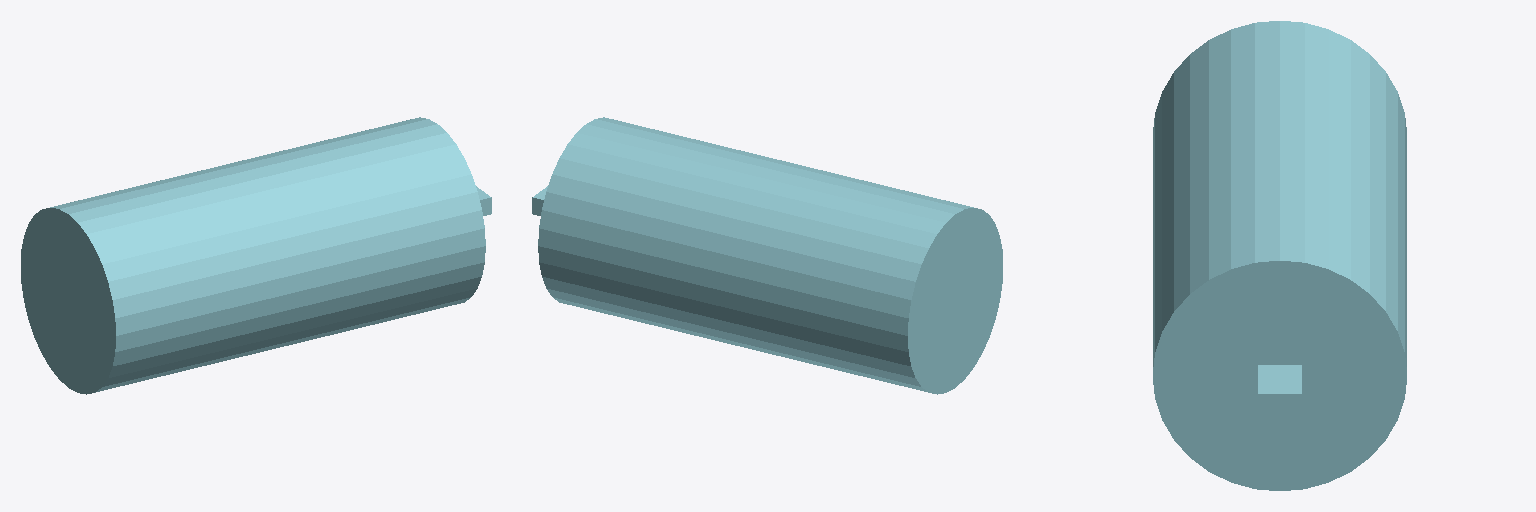
The robot description file, URDF, robot "cylinder_marker_v4010":
<?xml version="1.0"?>
<robot name="cylinder_marker_v4010">

  <link name="cylinder_marker_v4010">
    <!-- Handle -->
    <visual>
      <origin xyz="0 0 0" rpy="0 1.5707963267948966 0"/>
      <geometry>
        <cylinder length="0.12044438832357957" radius="0.027022227162891228"/>
      </geometry>
      <material name="material">
        <color rgba="0.639 0.847 0.882 1.0"/>
      </material>
    </visual>
    <collision>
      <origin xyz="0 0 0" rpy="0 1.5707963267948966 0"/>
      <geometry>
        <cylinder length="0.12044438832357957" radius="0.027022227162891228"/>
      </geometry>
    </collision>

    <!-- Head -->
    <visual>
      <origin xyz="0.06760772236806367 0 0" rpy="0 0 0"/>
      <geometry>
        <box size="0.014771056412547768 0.009247044214615365 0.005286159700766302"/>
      </geometry>
      <material name="material">
        <color rgba="0.639 0.847 0.882 1.0"/>
      </material>
    </visual>
    <collision>
      <origin xyz="0.06760772236806367 0 0" rpy="0 0 0"/>
      <geometry>
        <box size="0.014771056412547768 0.009247044214615365 0.005286159700766302"/>
      </geometry>
    </collision>

    <inertial>
      <density value="400.0"/>
    </inertial>
  </link>

</robot>

--- What the picture shows (computed from the rendered views, not written in the file) ---
The picture shows the robot from 3 angles, left to right: view 1: azimuth 30°, elevation 25°; view 2: azimuth 150°, elevation 25°; view 3: azimuth 270°, elevation 25°; orthographic projection.
Robot: cylinder_marker_v4010 — 1 links, 0 joints (none); root link cylinder_marker_v4010; default pose: all joints at 0.
Visible links, largest first — view 1: cylinder_marker_v4010; view 2: cylinder_marker_v4010; view 3: cylinder_marker_v4010.
Boxes of the visible links, x1,y1,x2,y2 form: cylinder_marker_v4010: (21,117,491,394); cylinder_marker_v4010: (532,117,1002,394); cylinder_marker_v4010: (1153,21,1406,490).
Size in the robot's own frame: 0.1352 by 0.054 by 0.054 metres.
Geometry: primitives only (box / cylinder / sphere), no mesh files.
